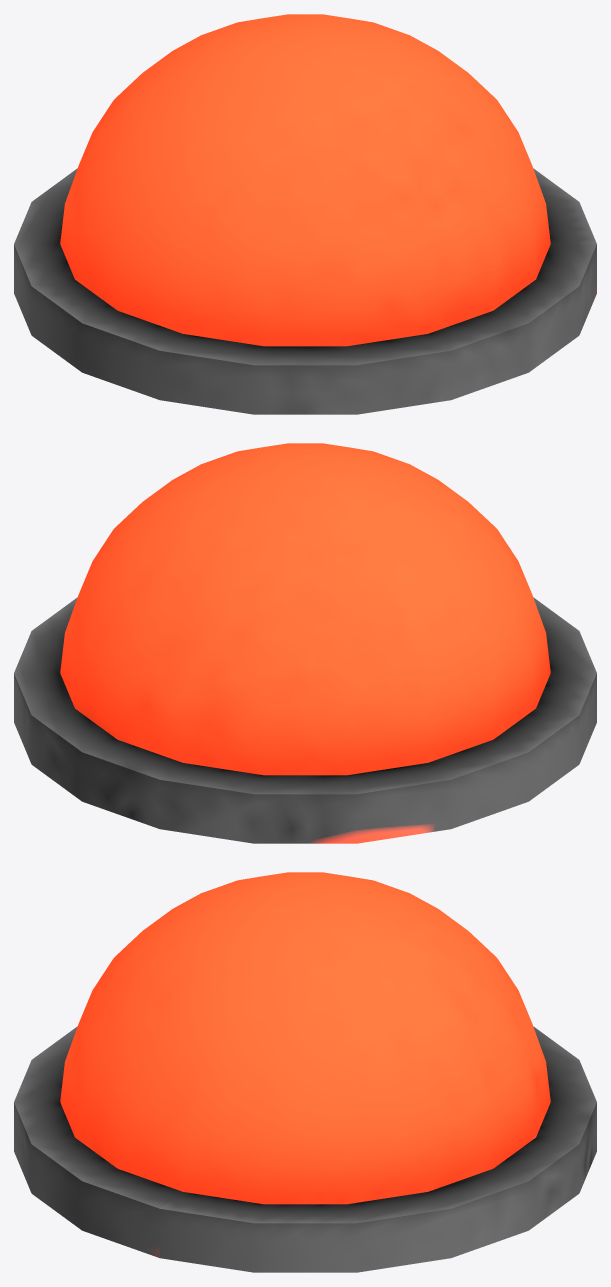
Rendered from PROP_100_AirlockAlarm.fbx.
3 views of the same model, one above another, from view 1: azimuth 30°, elevation 25°; view 2: azimuth 150°, elevation 25°; view 3: azimuth 270°, elevation 25° (orthographic).
Visible parts, largest first — view 1: Alarma; view 2: Alarma; view 3: Alarma.
Part boxes in pixels (x1,y1,x2,y2): Alarma: (14, 14, 596, 414); Alarma: (14, 443, 596, 843); Alarma: (14, 872, 596, 1272).
Size of the model in its own units: 0.2536 by 0.1247 by 0.2575.
1 material, 1 textured.
